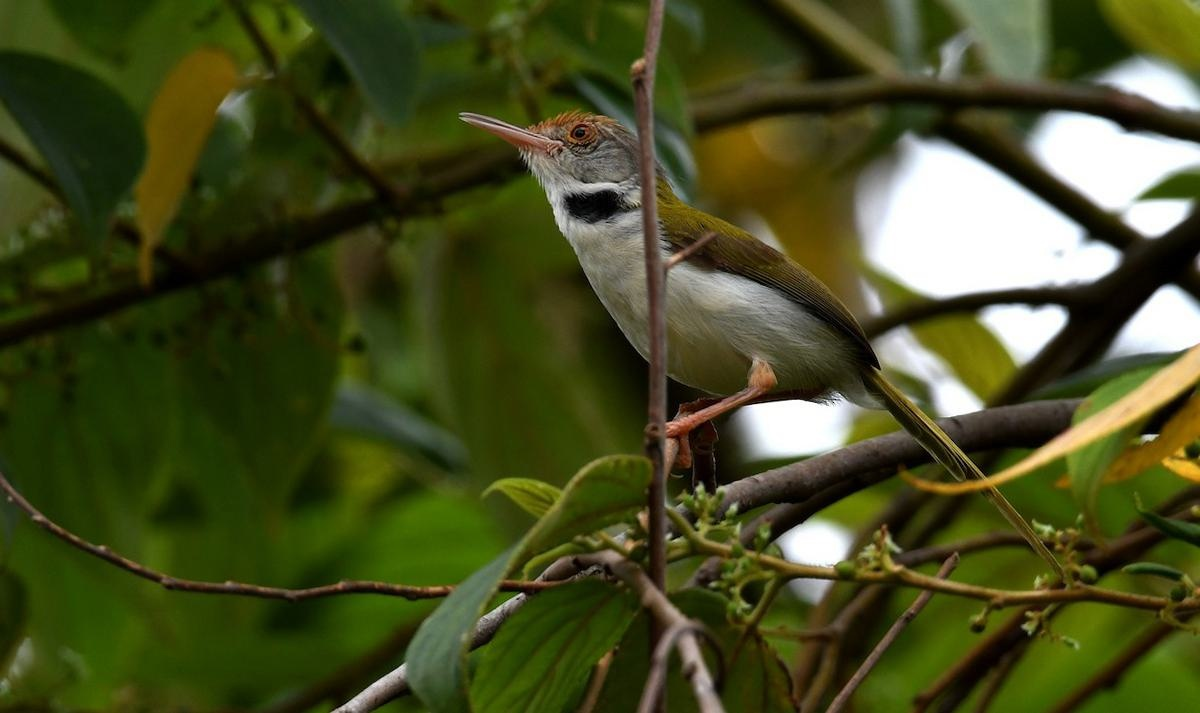tailorbird: (433, 87, 1067, 543)
